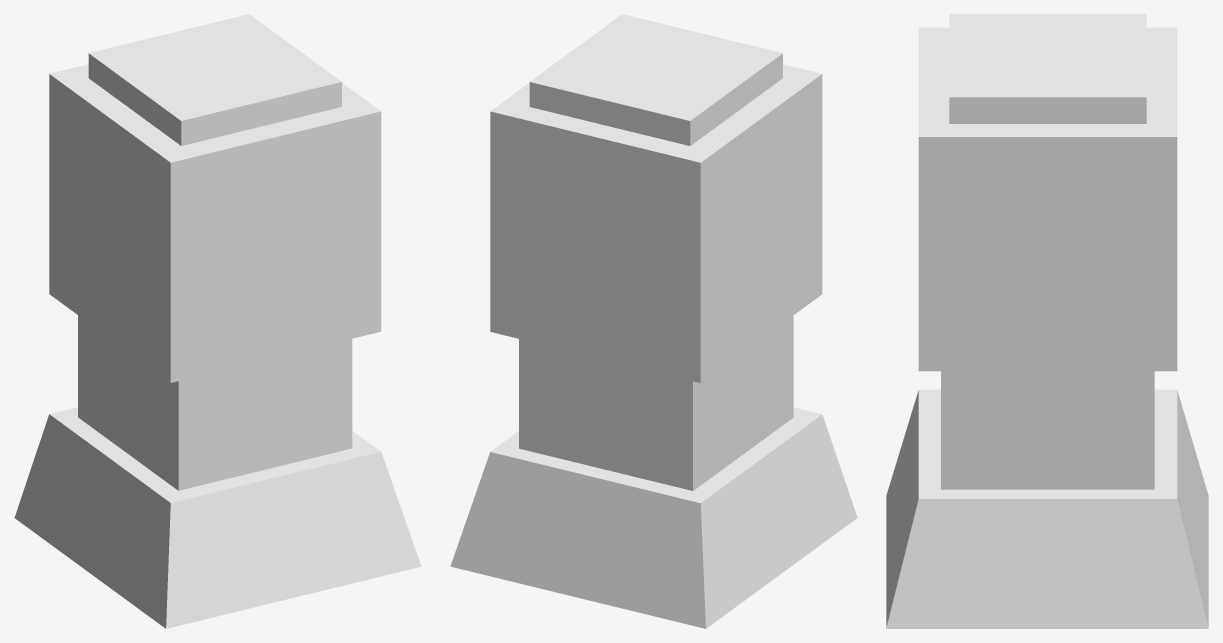
The model's file is Tower.fbx.
3 views of the same model, side by side, from view 1: azimuth 30°, elevation 25°; view 2: azimuth 150°, elevation 25°; view 3: azimuth 270°, elevation 25° (orthographic). The views are drawn at different scales.
Parts seen in each view (by area): view 1: Weapon3; view 2: Weapon3; view 3: Weapon3.
Boxes of the visible parts, <box> form: Weapon3: <box>14,14,421,628</box>; Weapon3: <box>450,14,857,628</box>; Weapon3: <box>886,14,1208,628</box>.
Size of the model in its own units: 72.82 by 129 by 74.85.
